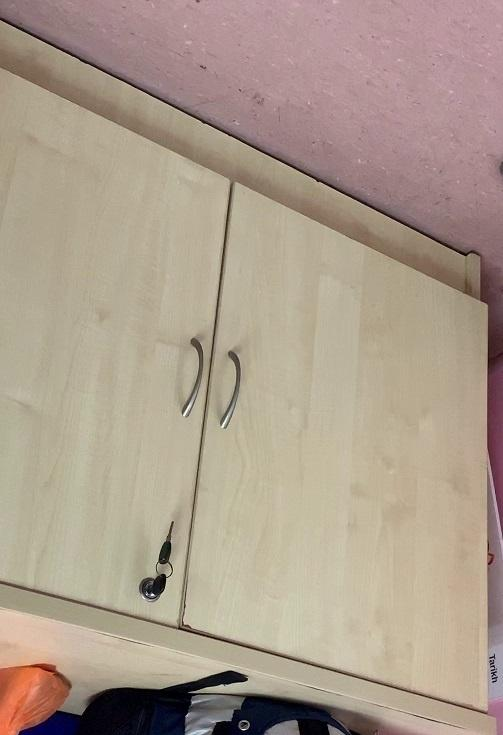cabinet_door: (205, 228, 485, 661), (1, 149, 207, 622)
handle: (178, 331, 205, 422), (219, 344, 243, 436)
